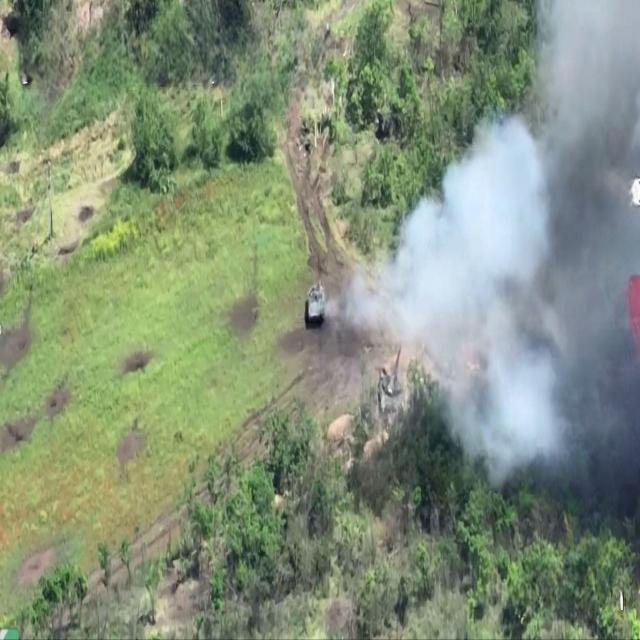AIFV: (306, 280, 328, 328)
MBT: (379, 345, 409, 413)
